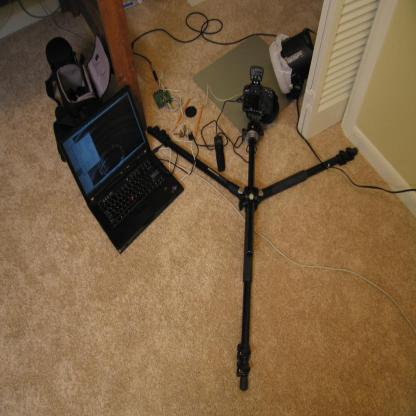board: (52, 72, 186, 249)
